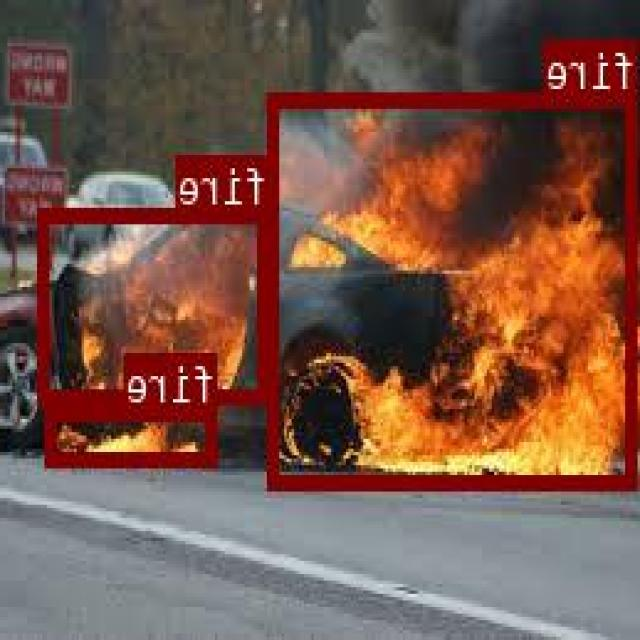fire: (271, 90, 640, 485), (41, 207, 270, 400), (48, 403, 219, 464)
